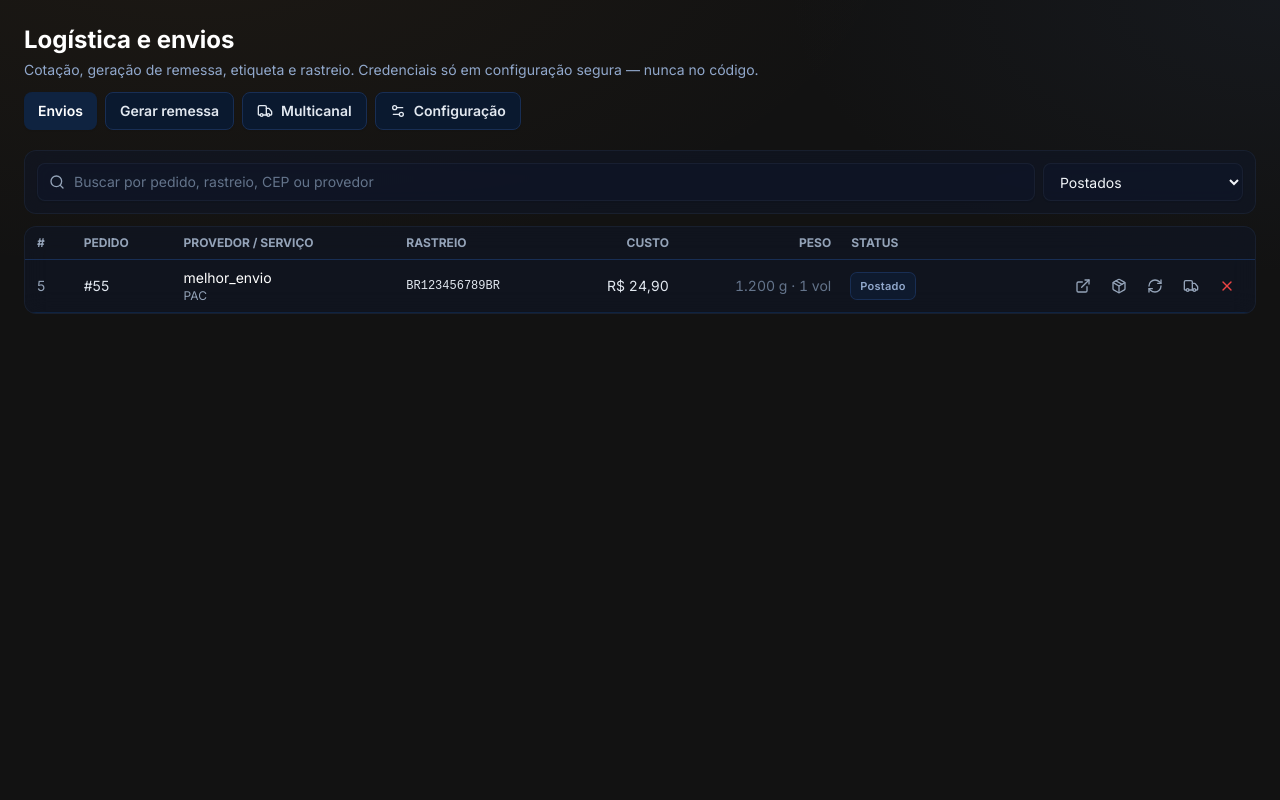
Test case: Logística — painel multicanal › erro na carga mostra alerta em vez de quebrar a tela
This screenshot has width=1280, height=800.
Click the button "Multicanal" at (304, 111), box x1=242 y1=92 x2=367 y2=130
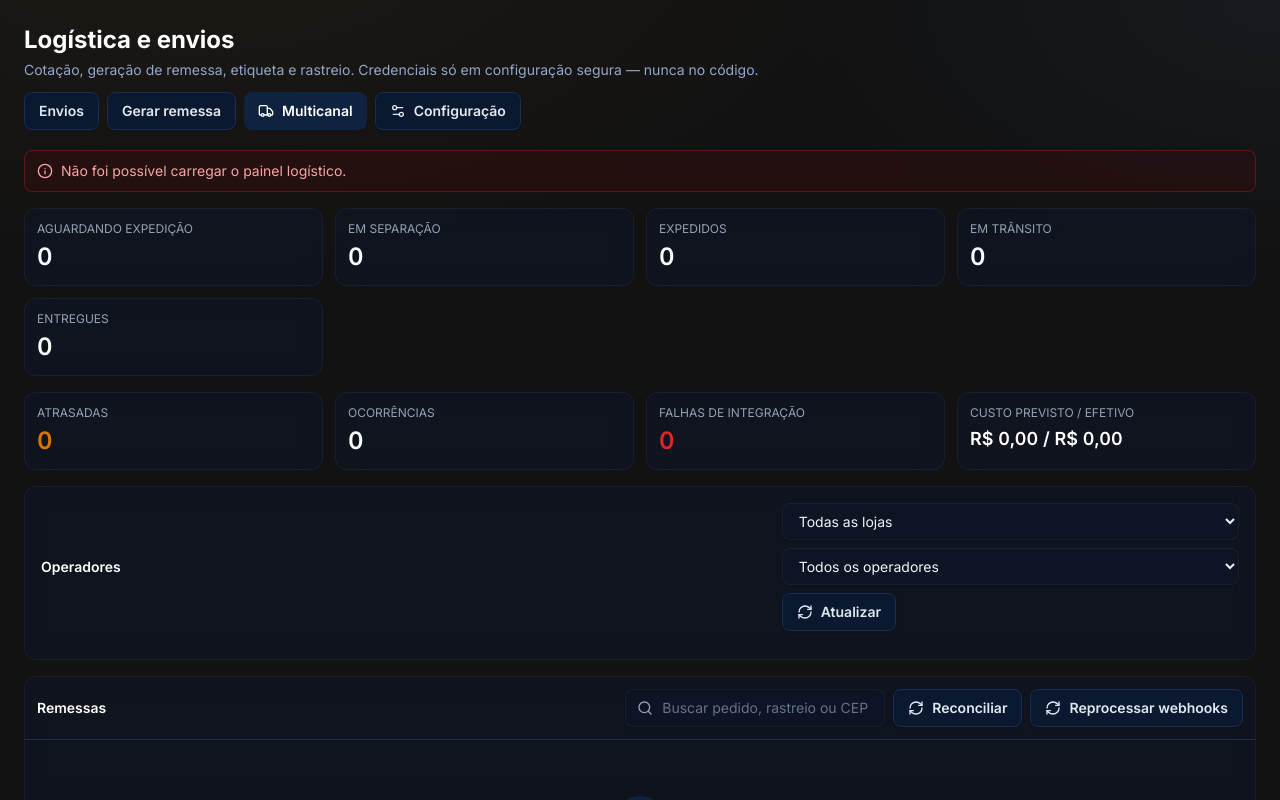
Now the text "Não foi possível carregar o painel logístico." is shown, box x1=61 y1=161 x2=346 y2=181
